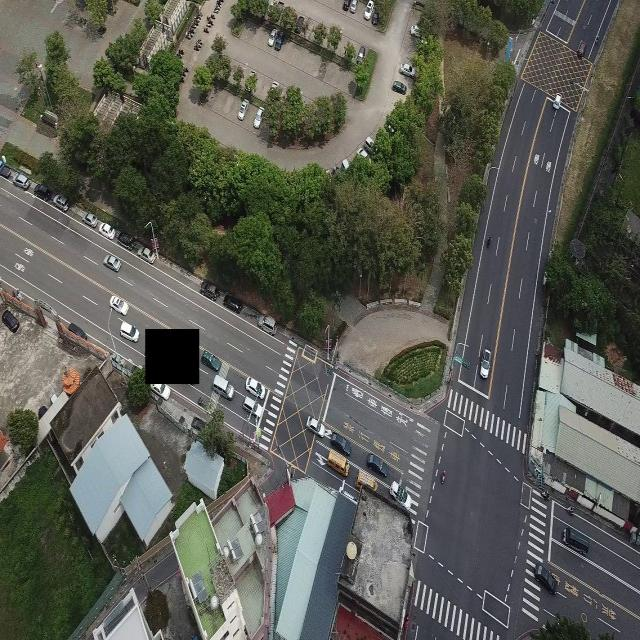bike: (197, 395, 206, 409), (540, 488, 550, 500), (485, 233, 492, 249), (564, 504, 575, 514), (442, 468, 448, 484), (206, 17, 214, 26), (594, 35, 600, 44), (178, 48, 185, 55), (185, 32, 191, 40), (176, 52, 182, 60), (194, 16, 200, 24), (193, 45, 200, 51), (196, 12, 202, 19), (188, 30, 193, 38), (213, 6, 218, 14), (203, 27, 209, 33), (206, 22, 212, 28), (210, 13, 216, 19), (216, 0, 222, 6), (215, 3, 220, 10), (190, 26, 194, 34), (196, 39, 202, 44), (196, 43, 202, 48), (192, 22, 196, 28)
bus: (562, 526, 591, 558), (326, 450, 351, 478), (355, 468, 378, 496)
car: (536, 562, 561, 594), (388, 482, 412, 511), (212, 373, 233, 401), (367, 452, 388, 477), (1, 306, 21, 332), (331, 432, 352, 454), (242, 397, 265, 417), (68, 322, 88, 344), (223, 290, 244, 310), (202, 349, 222, 370), (245, 378, 264, 400), (117, 230, 136, 252), (481, 348, 494, 379), (109, 294, 128, 314), (122, 322, 141, 342), (260, 317, 279, 337), (150, 382, 171, 400), (308, 416, 326, 437), (201, 279, 218, 300), (189, 416, 204, 438), (357, 148, 372, 170), (138, 246, 156, 264), (12, 171, 29, 189), (409, 23, 428, 38), (364, 136, 379, 155), (104, 256, 121, 272), (82, 211, 98, 228), (32, 185, 48, 202), (54, 195, 70, 211), (371, 4, 382, 26), (0, 154, 10, 178), (101, 223, 115, 240), (401, 63, 417, 77), (239, 98, 249, 120), (553, 90, 563, 112), (274, 32, 285, 52), (391, 79, 406, 93), (364, 0, 374, 21), (356, 44, 365, 64), (342, 160, 352, 178), (269, 82, 279, 100), (268, 28, 277, 47), (254, 106, 262, 127), (577, 40, 585, 58), (349, 0, 358, 13), (342, 0, 350, 12)
